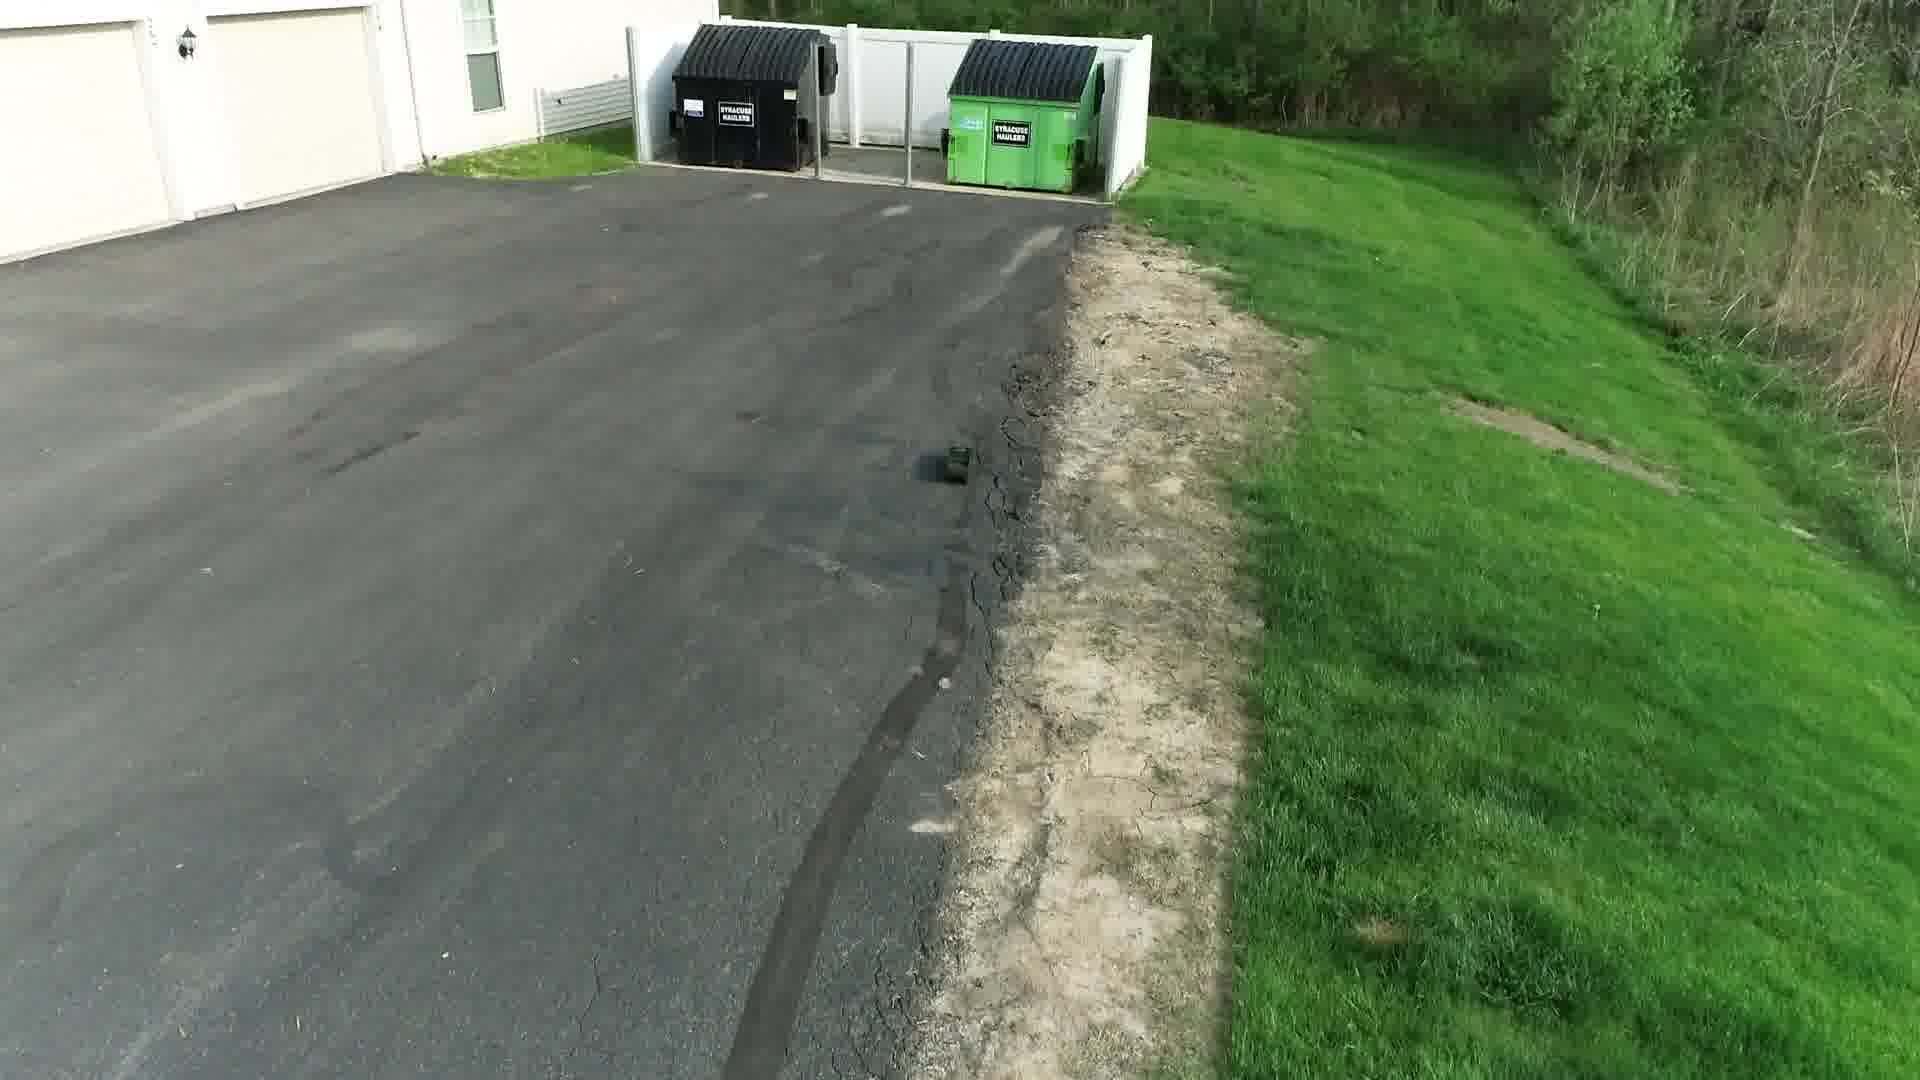transporter9: (944, 443, 975, 487)
